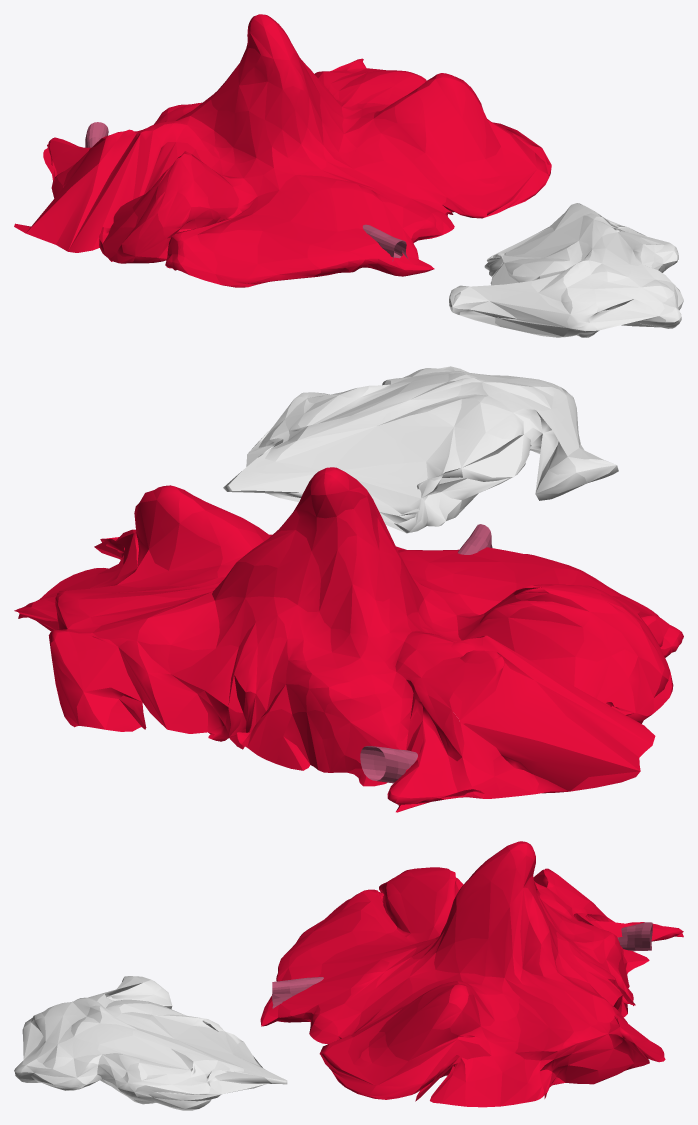
The model's file is island 1.fbx.
The picture shows the model from 3 angles, top to bottom: view 1: azimuth 30°, elevation 25°; view 2: azimuth 150°, elevation 25°; view 3: azimuth 270°, elevation 25°; orthographic projection. The views are drawn at different scales.
Parts seen in each view (by area): view 1: Icosphere, Icosphere.001, Cube.001; view 2: Icosphere, Icosphere.001, Cube.001; view 3: Icosphere, Icosphere.001, Cube.001.
Boxes of the visible parts, left/top/right/bottom form: Icosphere: left=14, top=14, right=551, bottom=287; Icosphere.001: left=449, top=203, right=683, bottom=337; Cube.001: left=85, top=122, right=408, bottom=261; Icosphere: left=14, top=467, right=683, bottom=812; Icosphere.001: left=223, top=366, right=618, bottom=533; Cube.001: left=360, top=524, right=492, bottom=783; Icosphere: left=260, top=841, right=683, bottom=1107; Icosphere.001: left=14, top=976, right=287, bottom=1110; Cube.001: left=272, top=922, right=652, bottom=1008.
Size of the model in its own units: 1736 by 647 by 2207.
